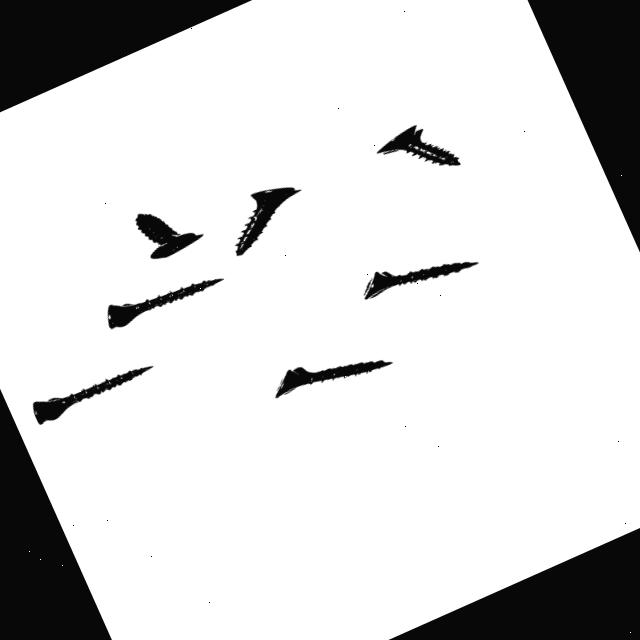Screw: (31, 367, 152, 425), (106, 279, 222, 329), (234, 187, 300, 256), (364, 262, 478, 300), (274, 361, 391, 398), (377, 125, 459, 165), (134, 213, 202, 259)
